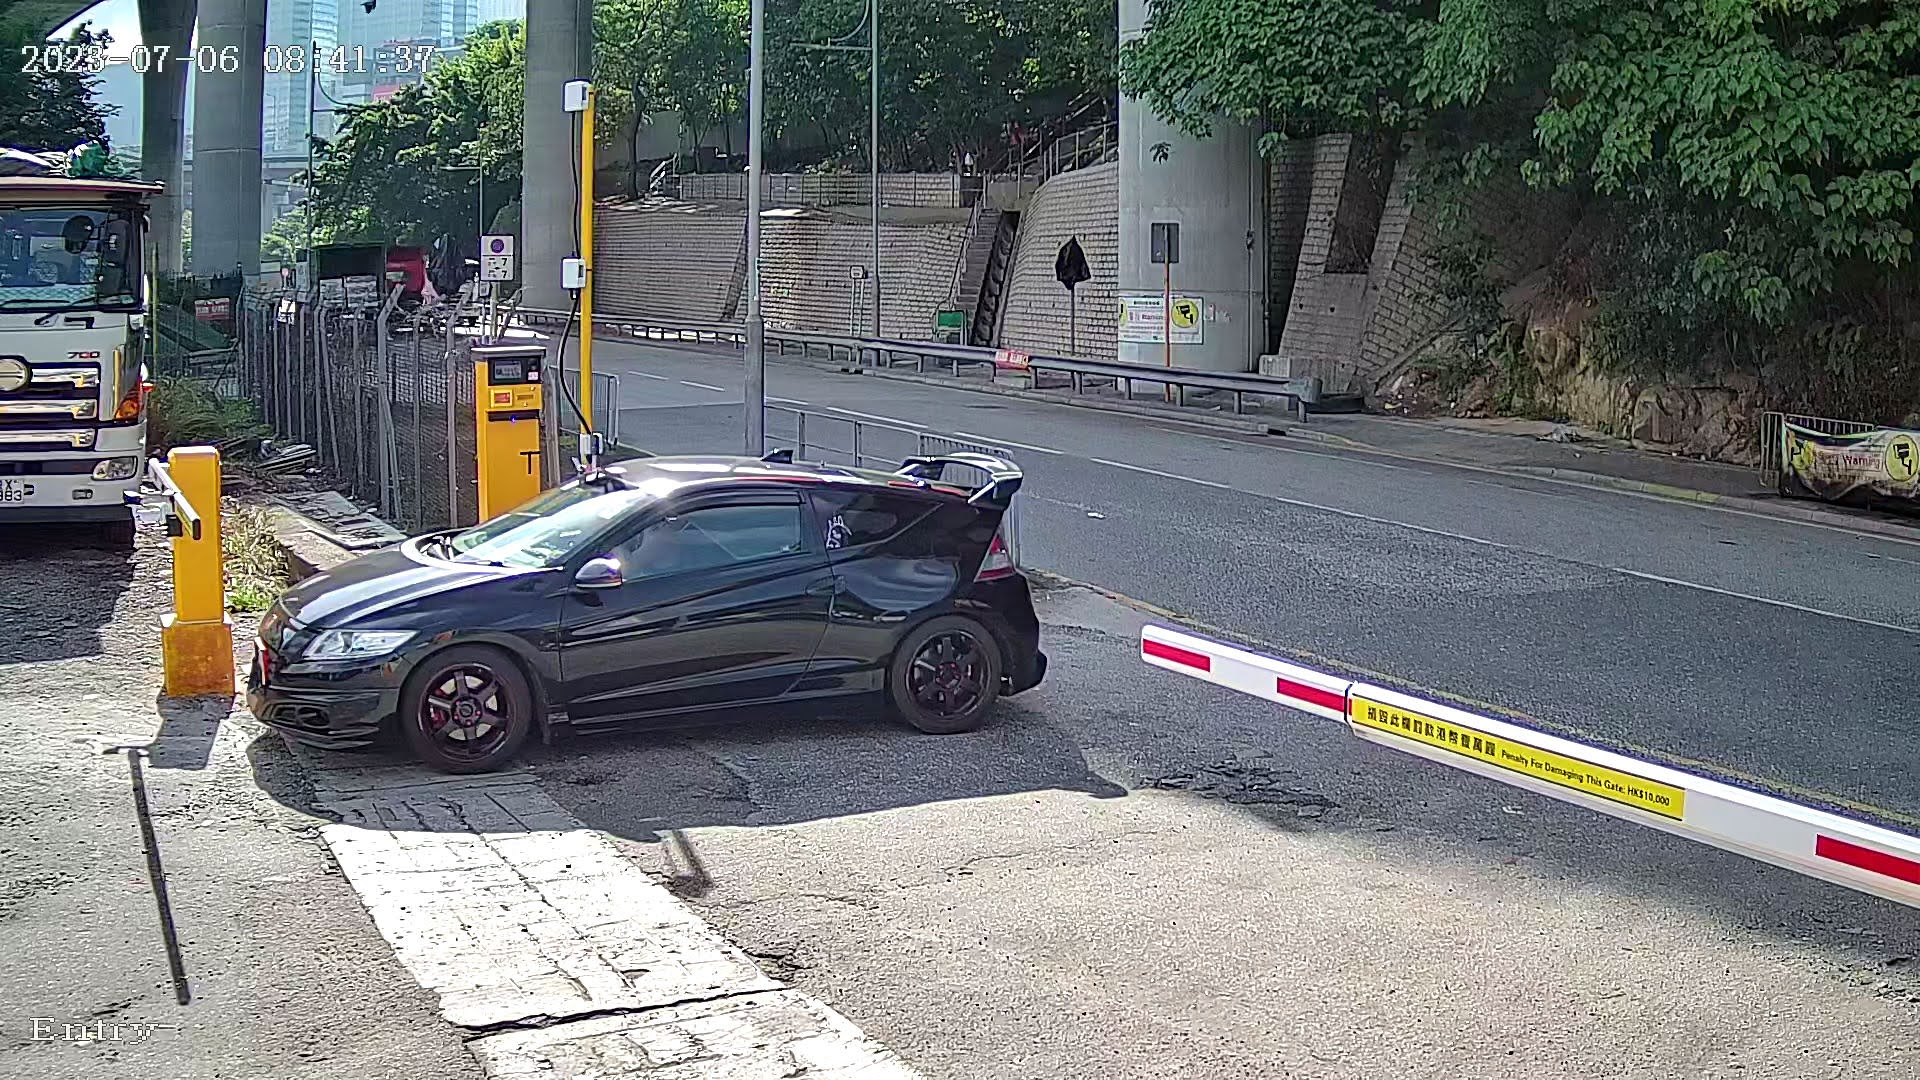privatecar: (236, 410, 1127, 785)
